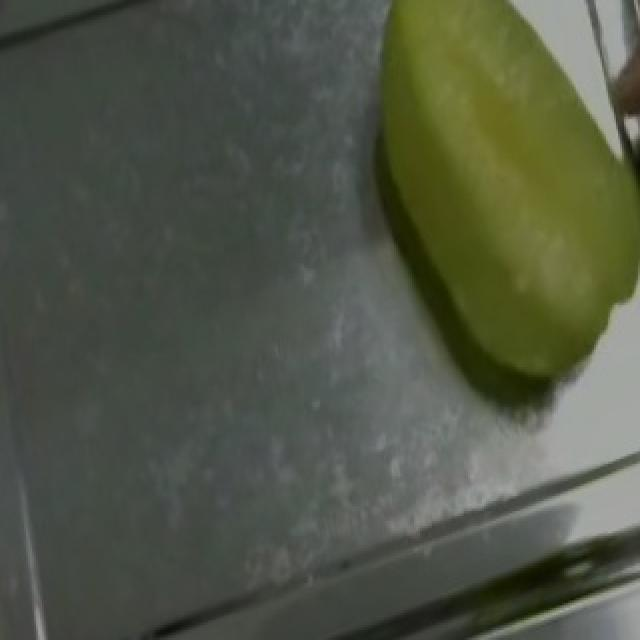fruit: (334, 0, 640, 330)
